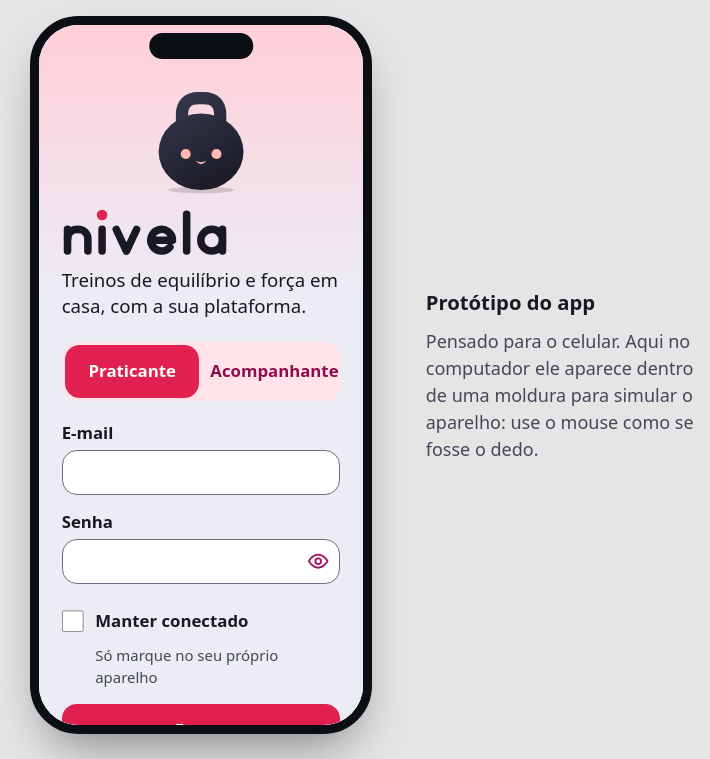
Scenario: formulário de login › o olho mostra a senha digitada
Type "minha-senha" into the password field labelled "Senha" at (201, 562), box [62,539,340,584]
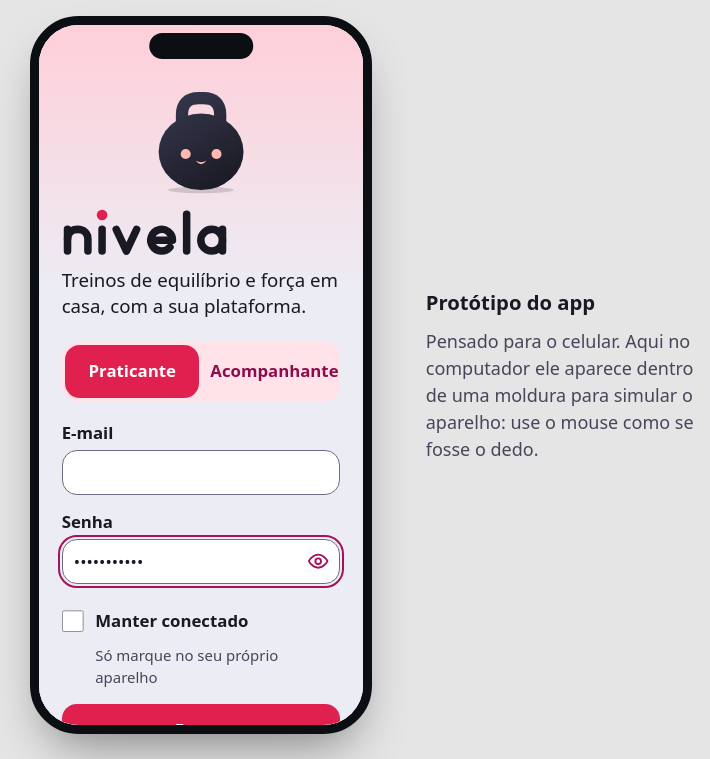
Click the button named "Mostrar senha" at (318, 562), box [296,539,340,584]
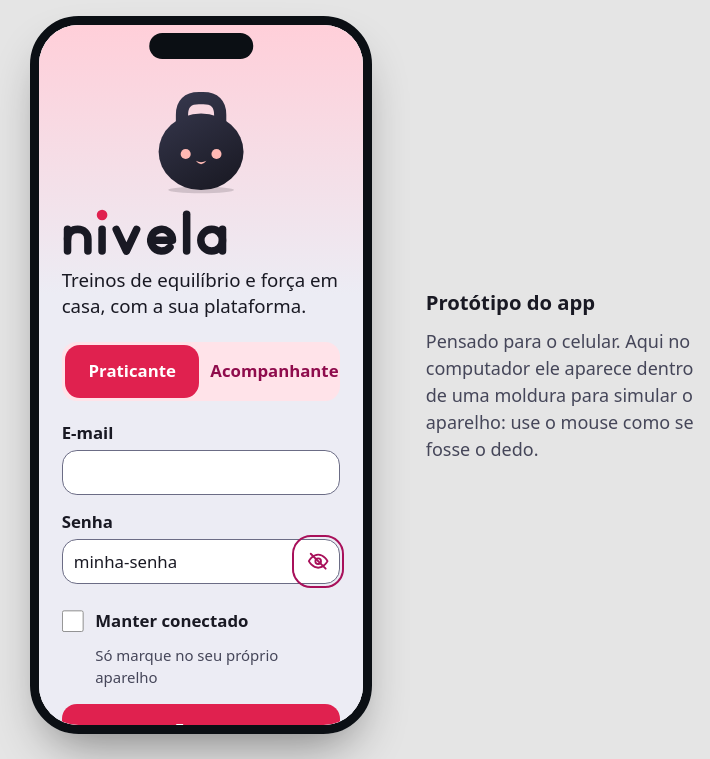
expect the field labelled "Senha" shows its text: met, box [62,539,340,584]
